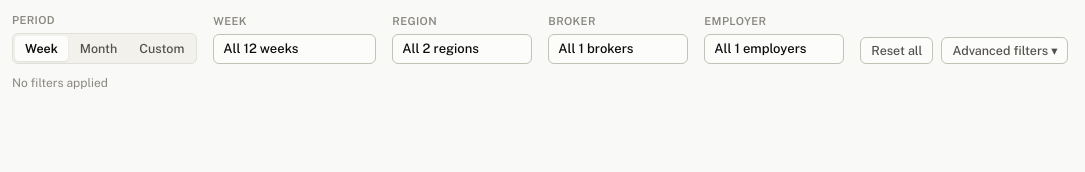
the period control › offers real calendar months, not four-week blocks
Click the button "Month": (98, 48) [70,36,127,60]
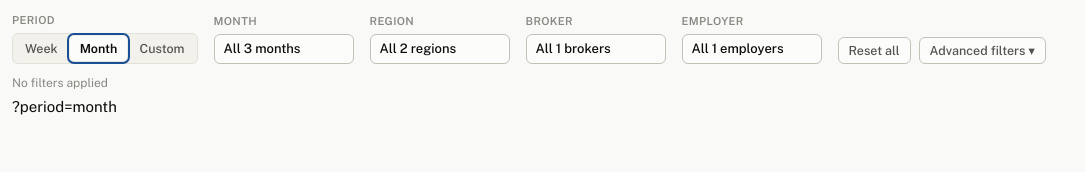
Select "Aug 2026" in the dropdown labelled "Month": (284, 49) [214,34,354,64]
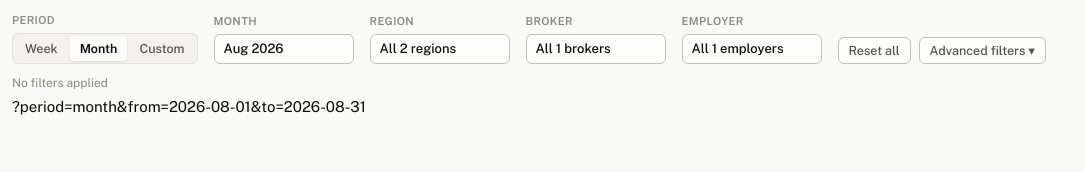
Now the text with test id "address" shows "from=2026-08-01", box [12,98,366,114]
Now the text with test id "address" shows "to=2026-08-31", box [12,98,366,114]
